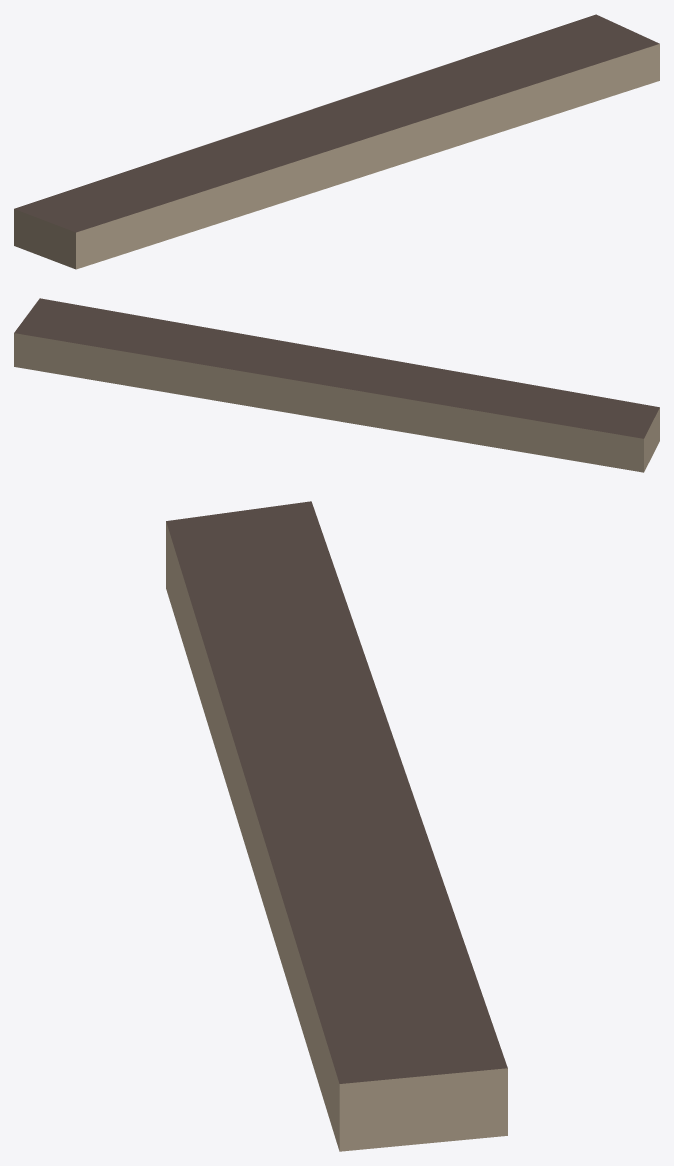
The picture shows the model from 3 angles, top to bottom: view 1: azimuth 30°, elevation 25°; view 2: azimuth 150°, elevation 25°; view 3: azimuth 270°, elevation 25°; orthographic projection. The views are drawn at different scales.
Visible parts, largest first — view 1: HP-w414733196; view 2: HP-w414733196; view 3: HP-w414733196.
Part boxes in pixels (x1,y1,x2,y2): HP-w414733196: [14, 14, 659, 269]; HP-w414733196: [14, 298, 659, 472]; HP-w414733196: [166, 501, 507, 1151].
Size of the model in its own units: 111 by 6 by 27.49.
